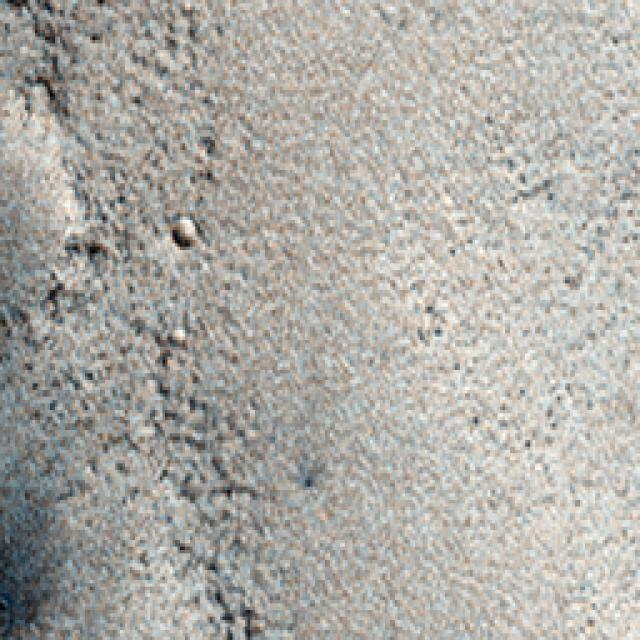Crater: (0, 83, 90, 347)
